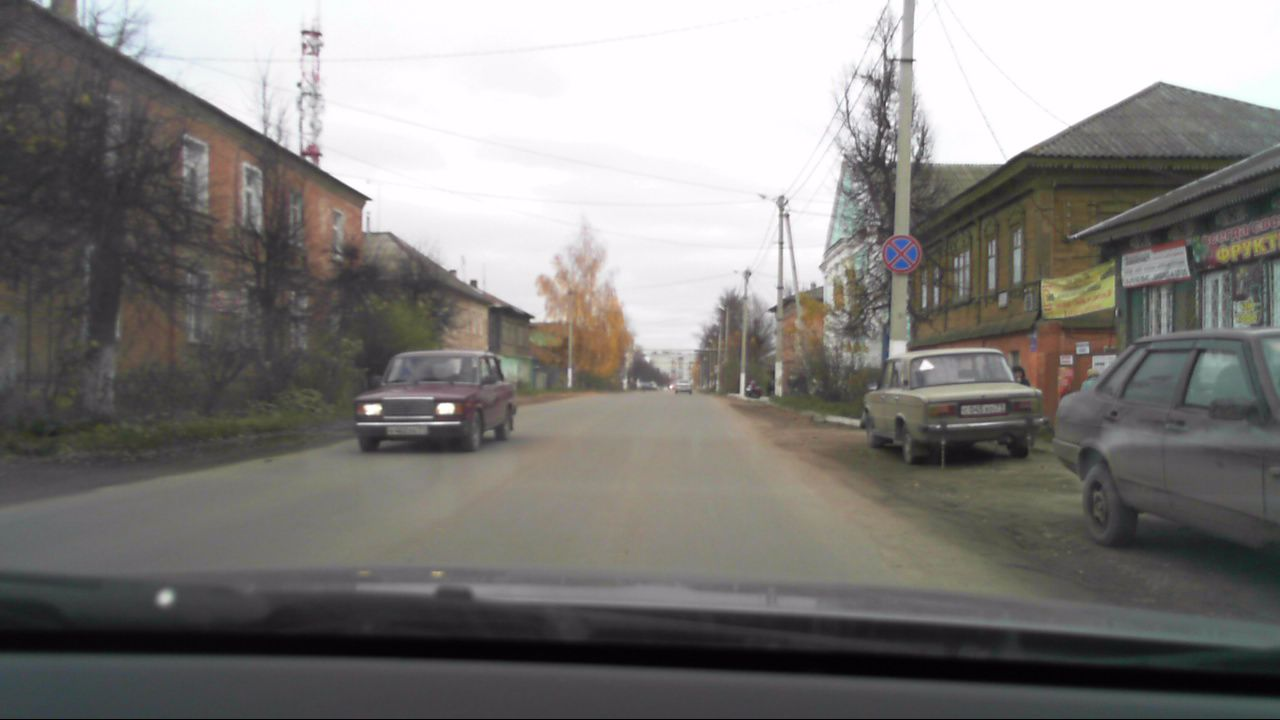No Parking: (881, 234, 927, 277)
